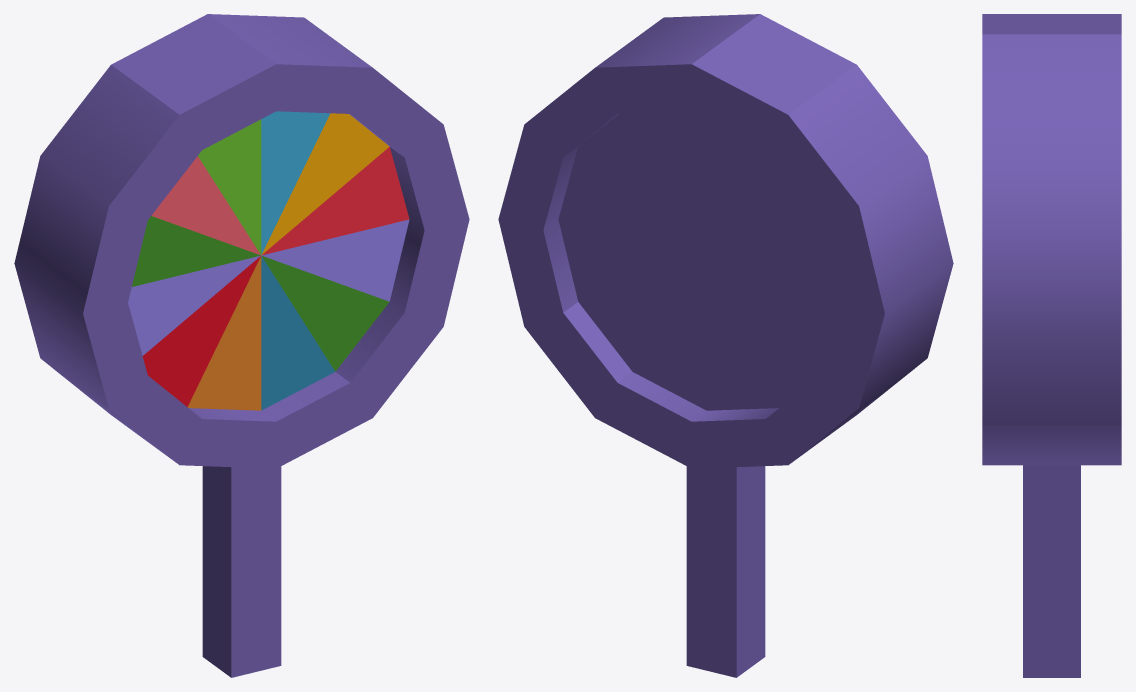
The model's file is Sign_1.fbx.
3 renders of one model, left to right at view 1: azimuth 30°, elevation 25°; view 2: azimuth 150°, elevation 25°; view 3: azimuth 270°, elevation 25°, orthographic.
Visible parts, largest first — view 1: Sign_1; view 2: Sign_1; view 3: Sign_1.
Part boxes in pixels (box(x1,y1,x2,y2)): Sign_1: box(14, 14, 469, 677); Sign_1: box(498, 14, 953, 677); Sign_1: box(982, 14, 1121, 677).
Bounding box in the file's own units: 54.22 × 83.39 × 16.66.
